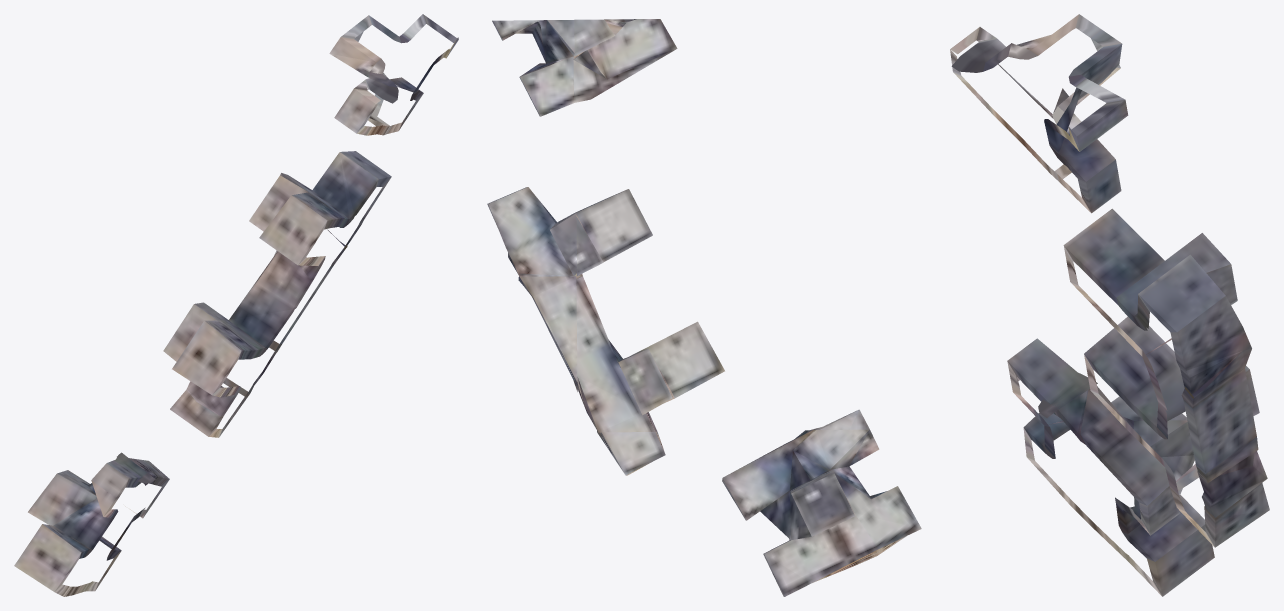
The picture shows the model from 3 angles, left to right: view 1: azimuth 30°, elevation 25°; view 2: azimuth 150°, elevation 25°; view 3: azimuth 270°, elevation 25°; orthographic projection. The views are drawn at different scales.
Bounding box in the file's own units: 91.46 × 103 × 40.86.
1 material, 1 textured.
